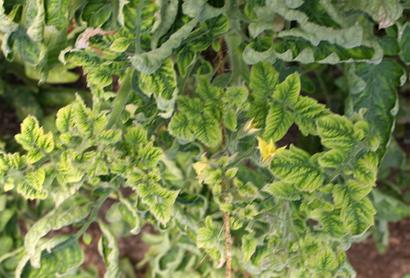Tomato leaf yellow virus: (336, 175, 393, 234), (270, 143, 334, 194), (130, 171, 191, 220), (0, 149, 55, 201), (58, 90, 98, 158), (310, 108, 362, 152), (15, 113, 60, 163), (170, 94, 214, 138), (267, 92, 297, 150), (253, 57, 282, 107), (193, 105, 223, 152), (145, 63, 181, 101), (276, 61, 305, 102), (138, 139, 163, 173)
